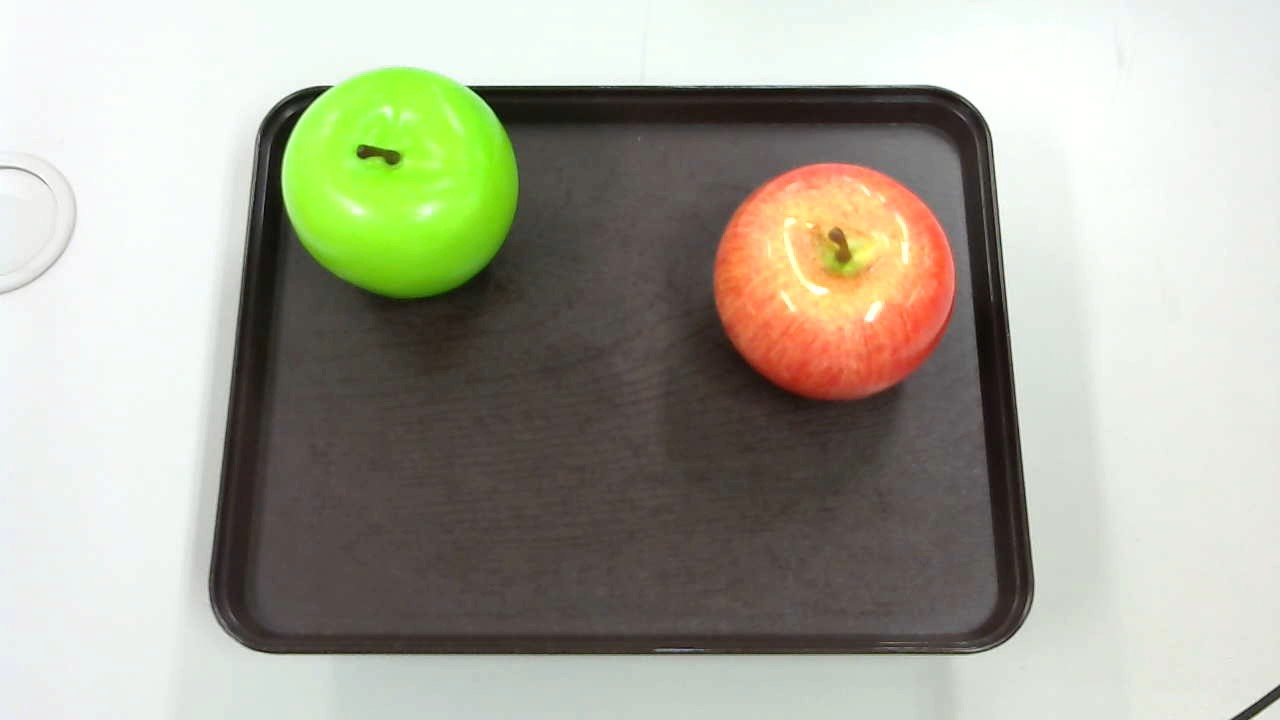green apple: (277, 67, 516, 300)
red apple: (707, 162, 958, 407)
